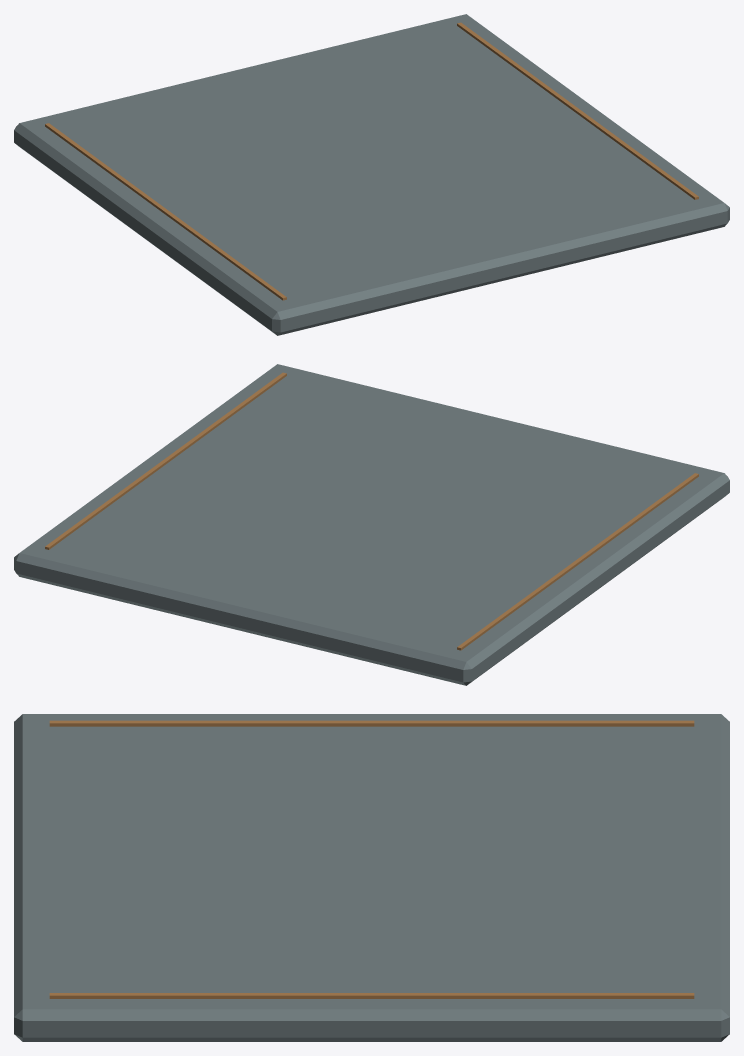
File: floor.lod0.glb
3 views of the same model, one above another, from view 1: azimuth 30°, elevation 25°; view 2: azimuth 150°, elevation 25°; view 3: azimuth 270°, elevation 25° (orthographic). The views are drawn at different scales.
Visible parts, largest first — view 1: structure; view 2: structure; view 3: structure.
Part boxes in pixels (x1,y1,x2,y2): structure: [14, 14, 729, 335]; structure: [14, 364, 729, 685]; structure: [14, 714, 729, 1041].
Bounding box in the file's own units: 4 × 0.222 × 4.
